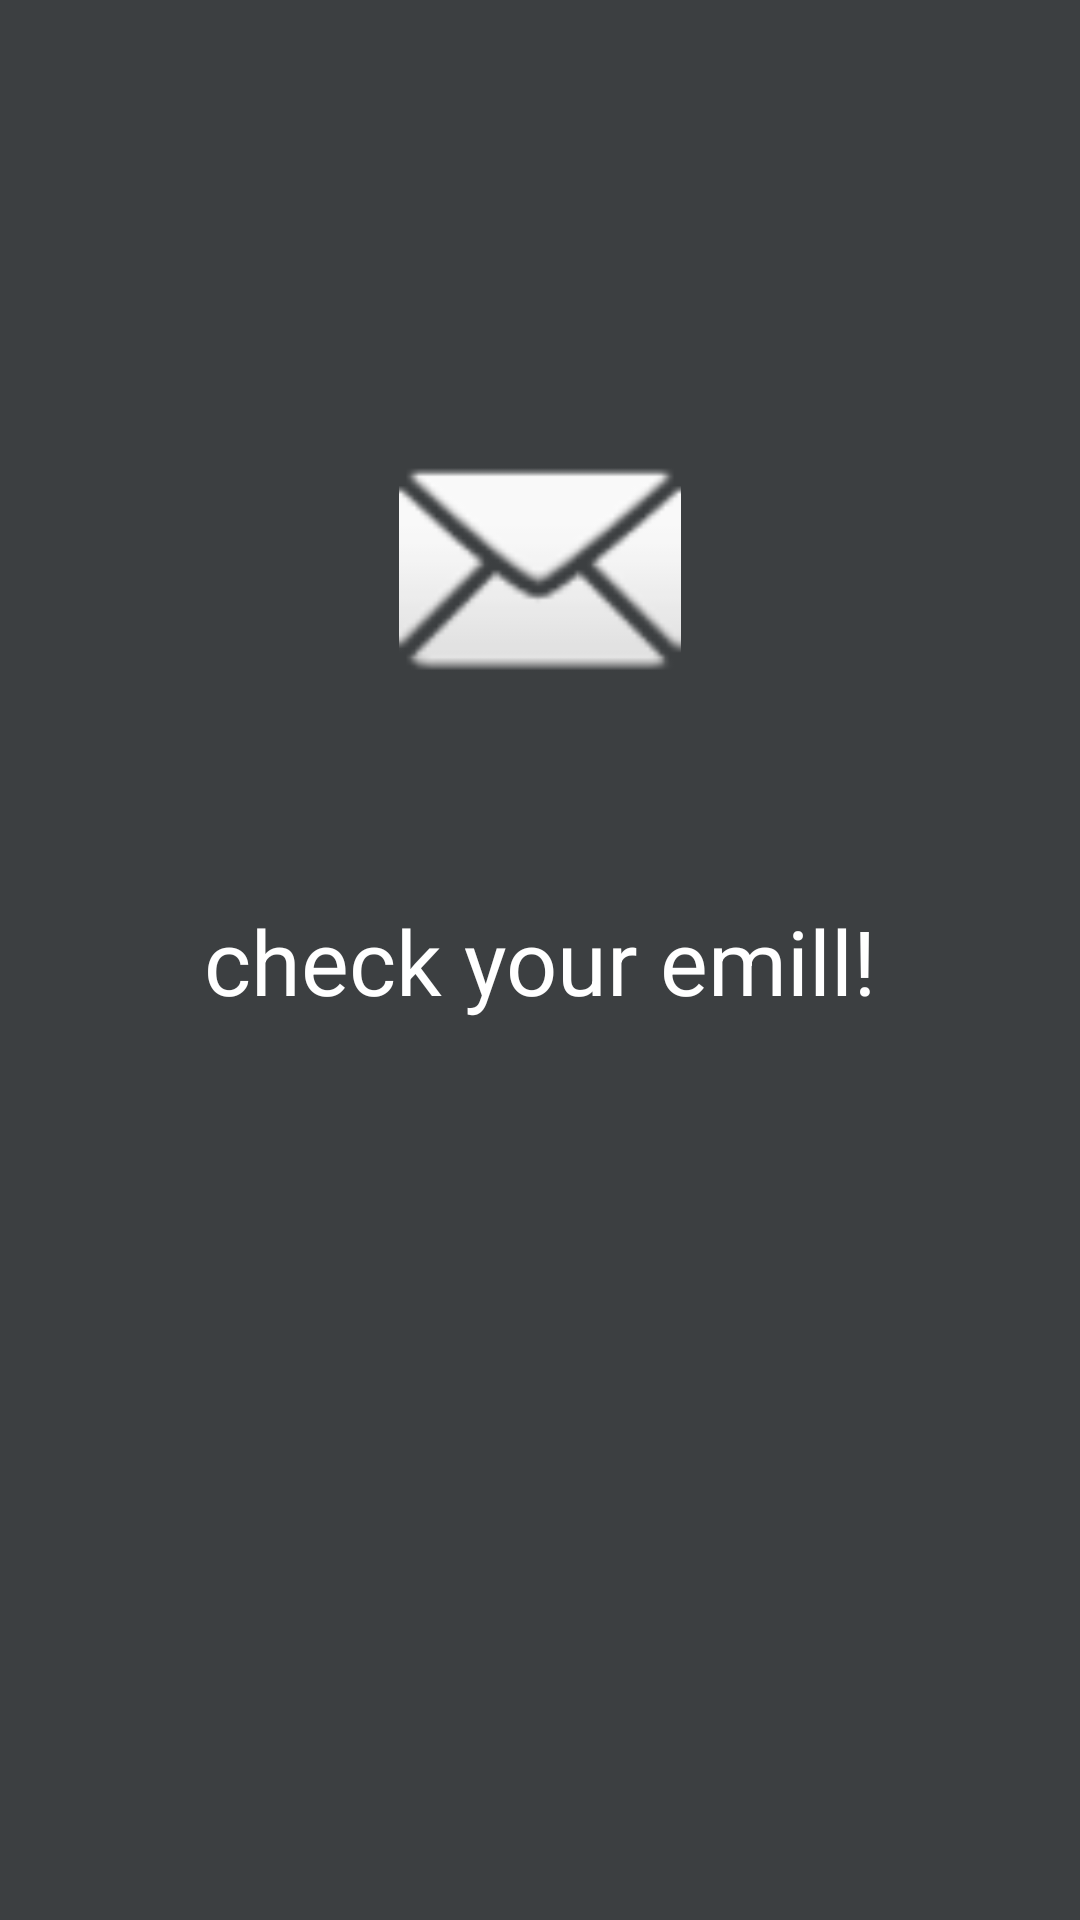

Screen size 1080 × 1920. Icon name, then its box in pixels as bbox(x1, y1, x2, y2):
email: bbox(399, 469, 681, 669)
